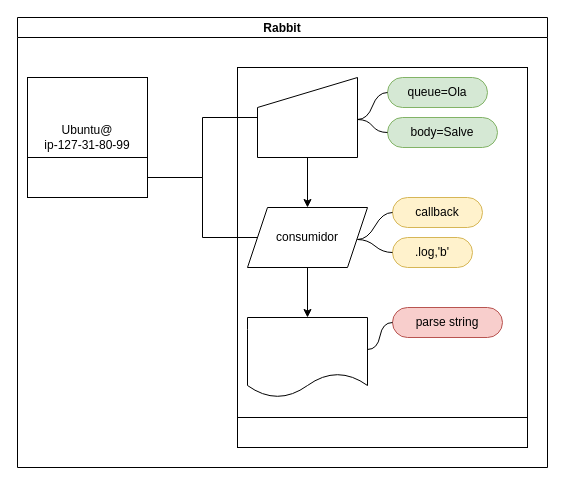
Image size: 565x485. Some labels were removed from this diagram. Each missing label, with the centre of its shape:
"mensagem.txt" goes at point 307,357.
"produtor" goes at point 307,117.
"Python 3.81" goes at point 382,432.
"Rabbit img=some-rabbit" goes at point 87,177.
